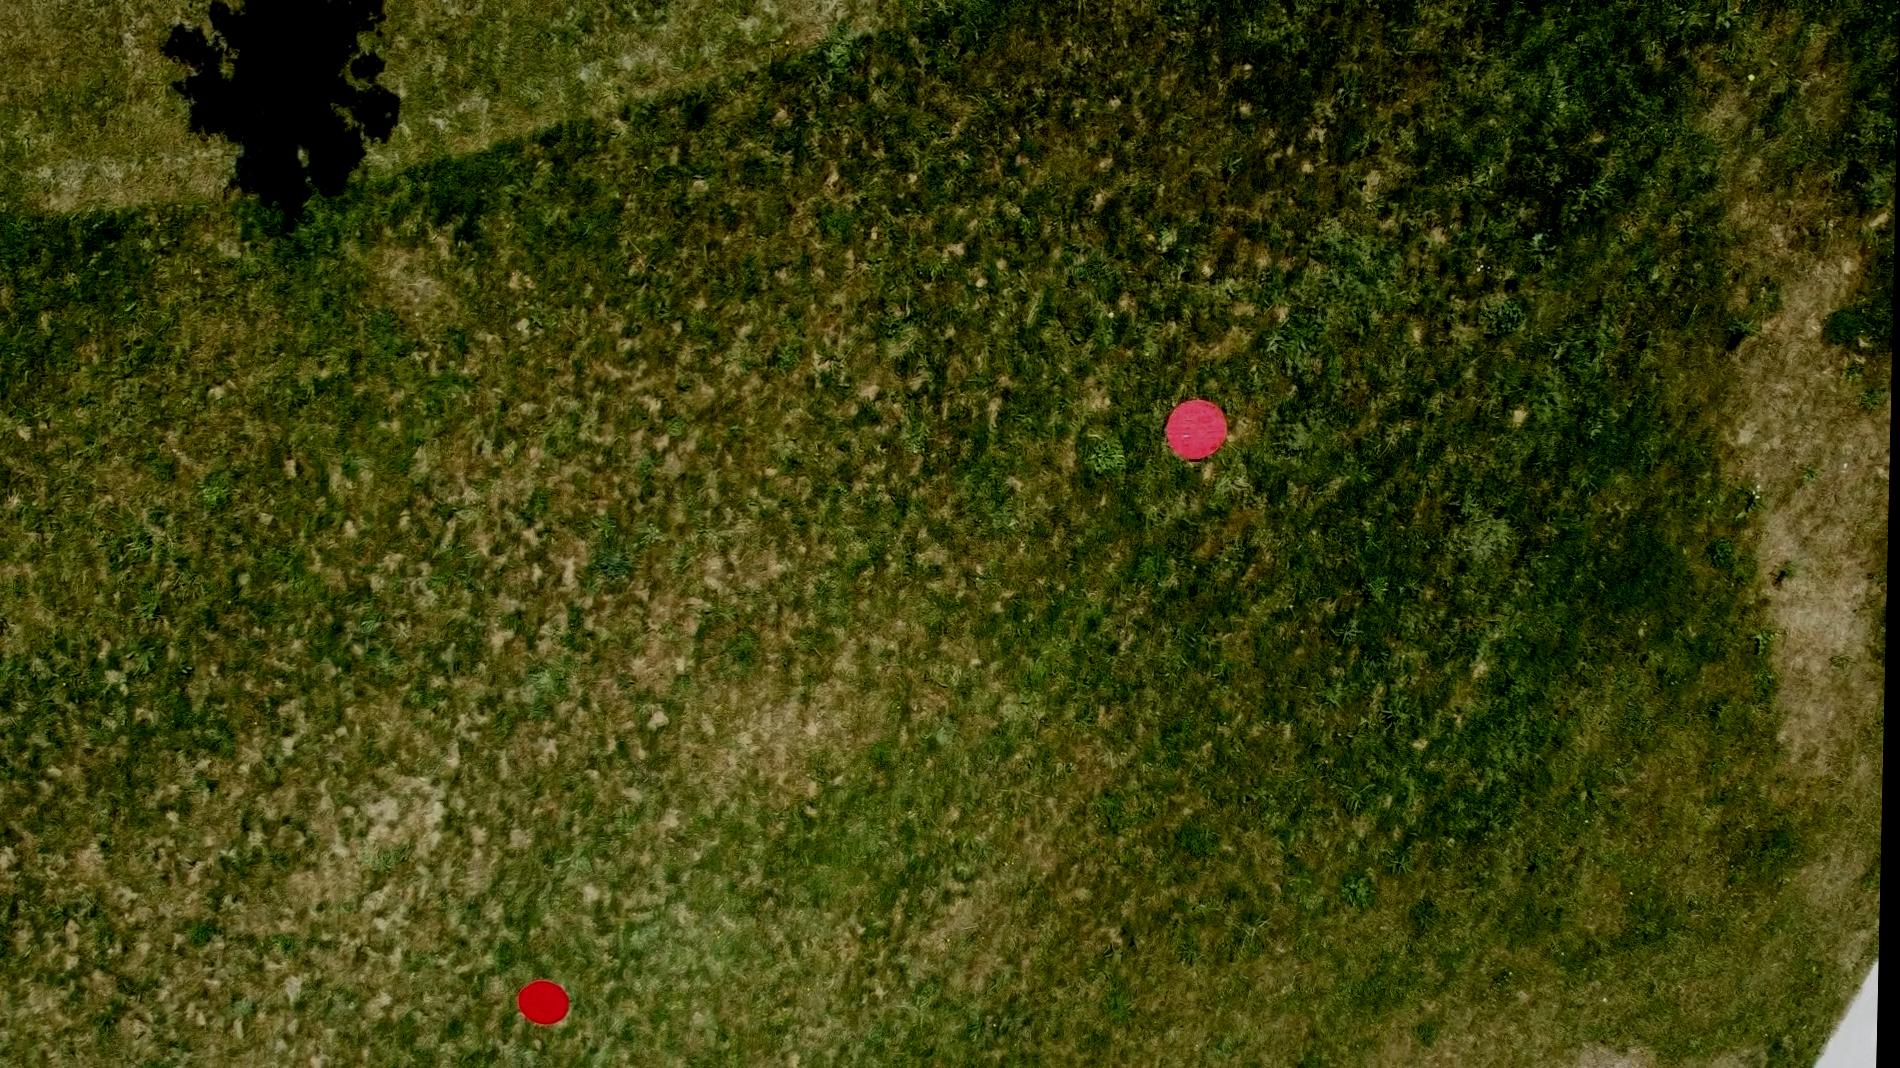Red: (1163, 396, 1233, 465), (518, 979, 579, 1029)
